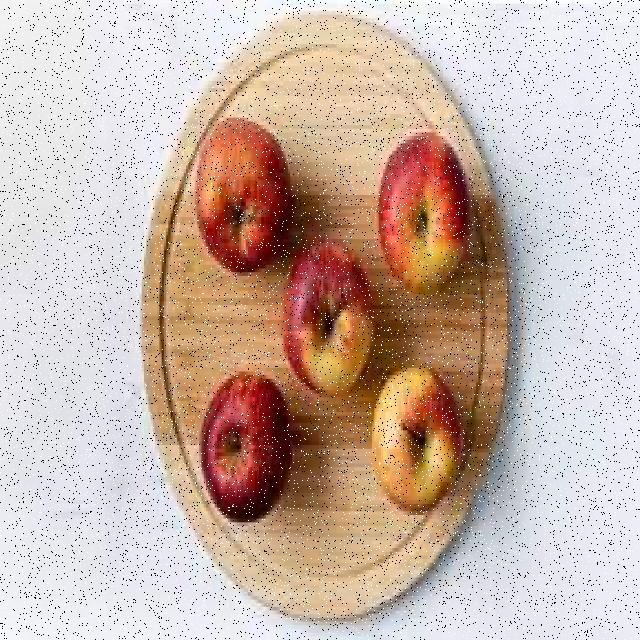Apple: (376, 129, 469, 284), (195, 118, 288, 270), (198, 370, 291, 519), (285, 244, 375, 394), (371, 367, 461, 509)
